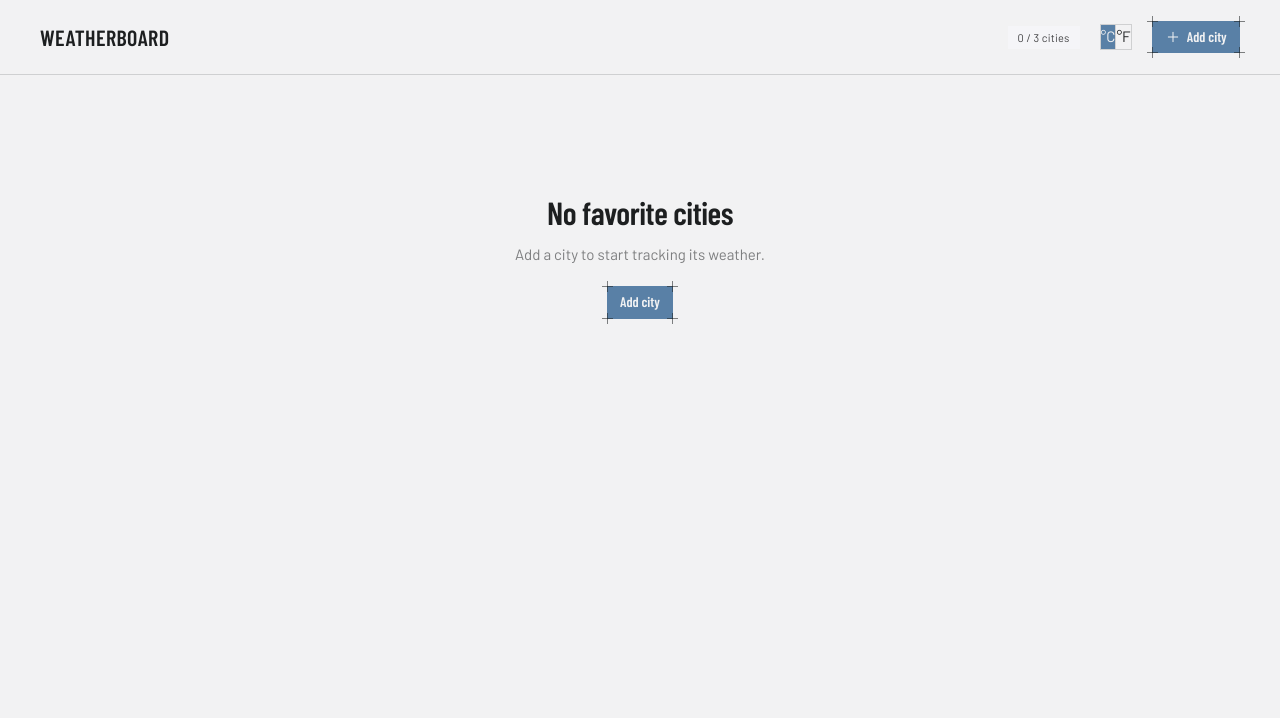
Test case: App › adds a city through the dialog
Expected: the heading "No favorite cities" is shown, [547,195,733,231]
Click the button "Add city" in the row of "WEATHERBOARD" at coordinates (1196, 37), box [1152,21,1240,53]
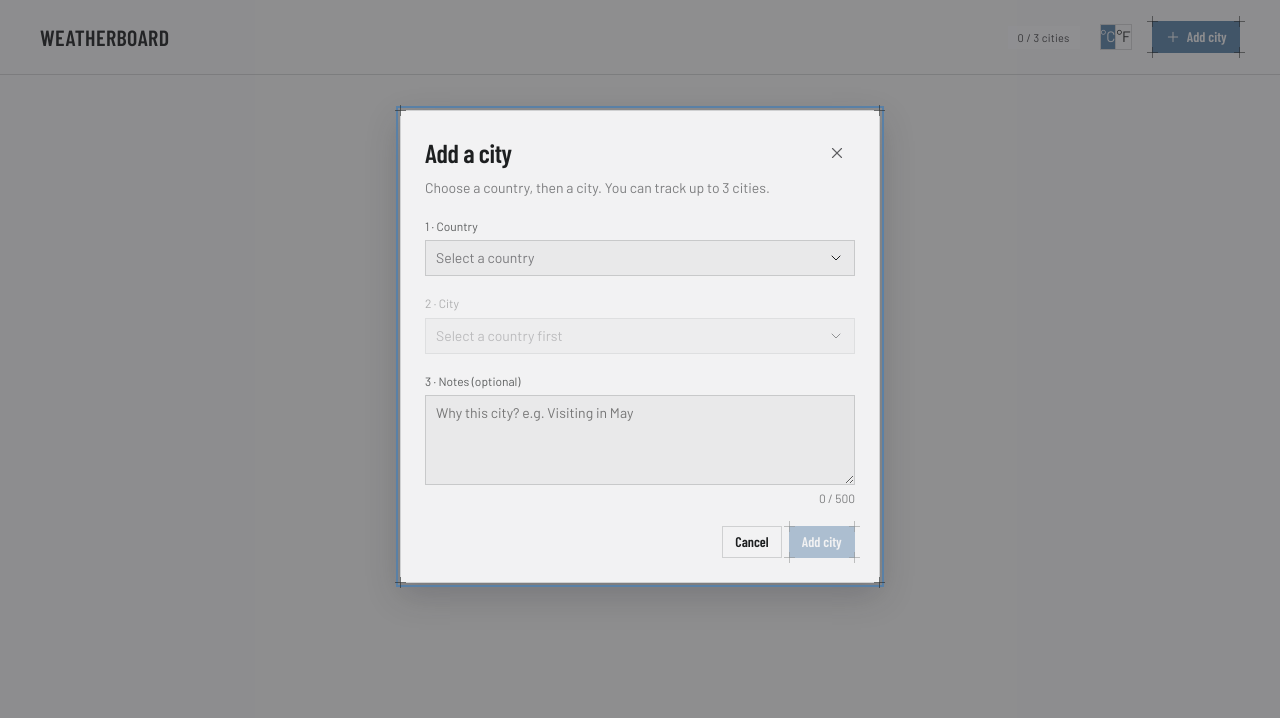
Click the button named "1 · Country" at coordinates (485, 258), box [425,240,855,276]
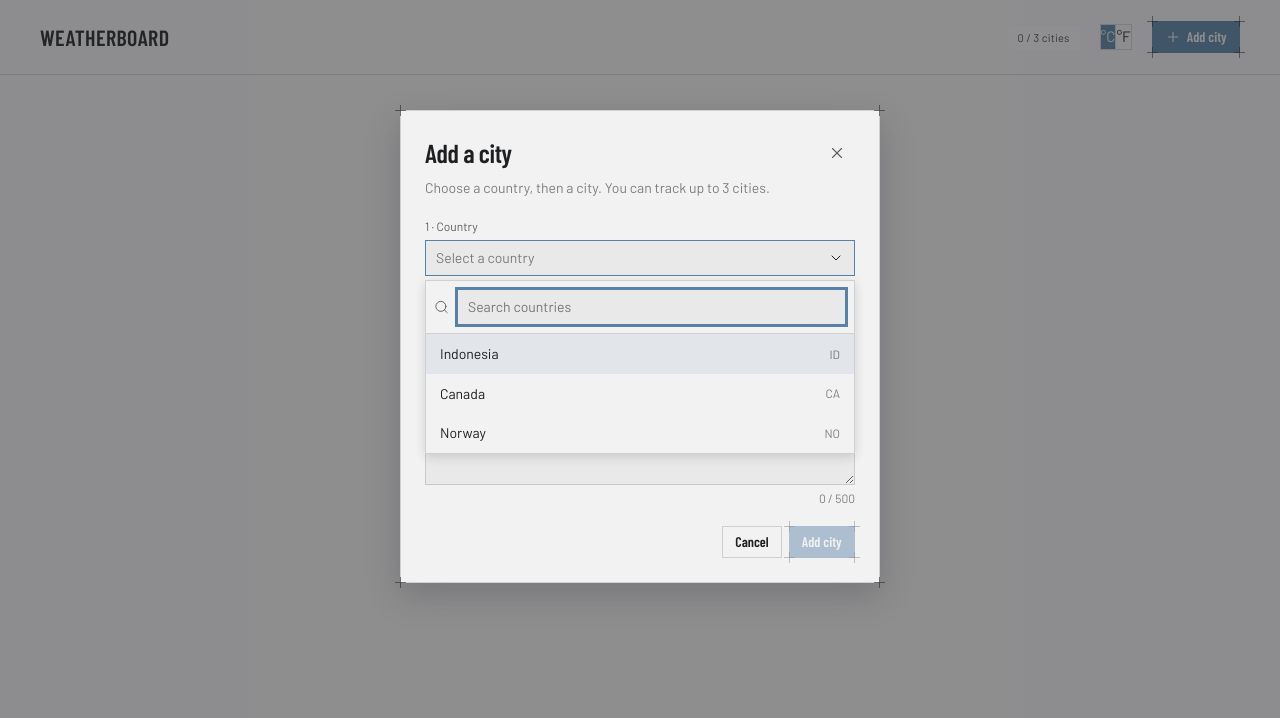
Click the option "Norway NO" at coordinates (463, 433), box [440,424,840,441]
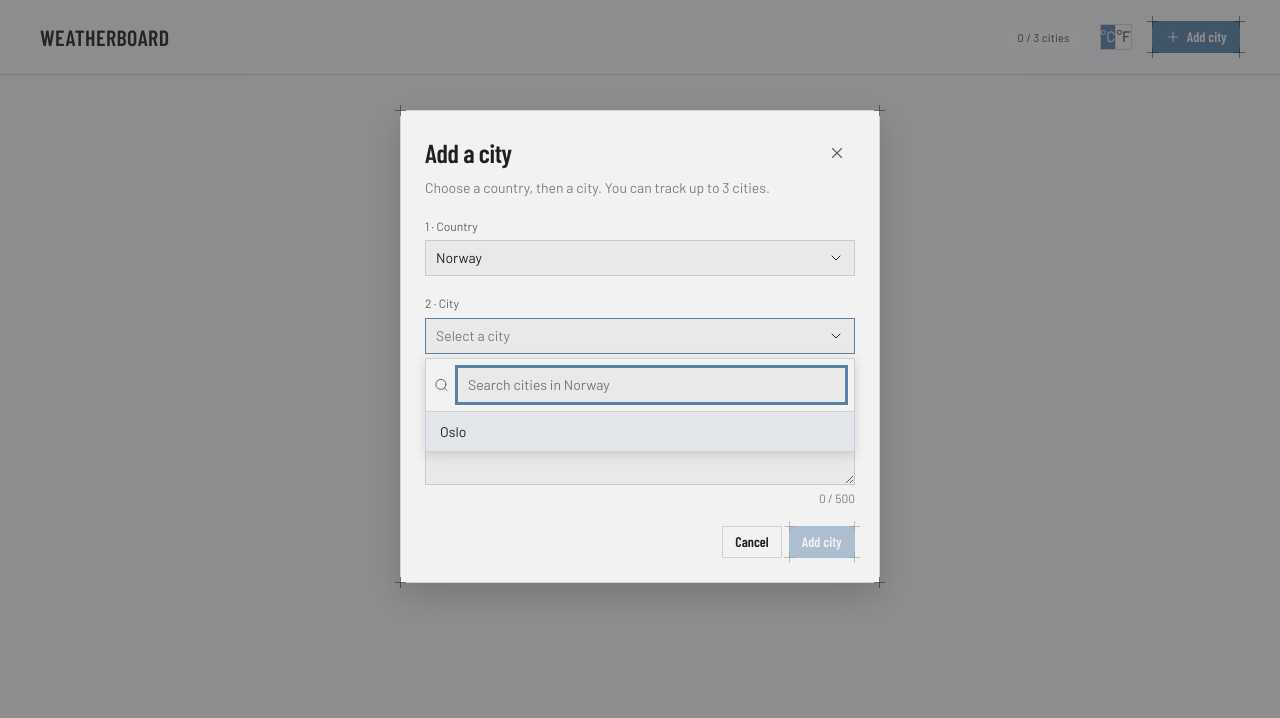
Click the option "Oslo" at coordinates (453, 431), box [426,412,854,451]
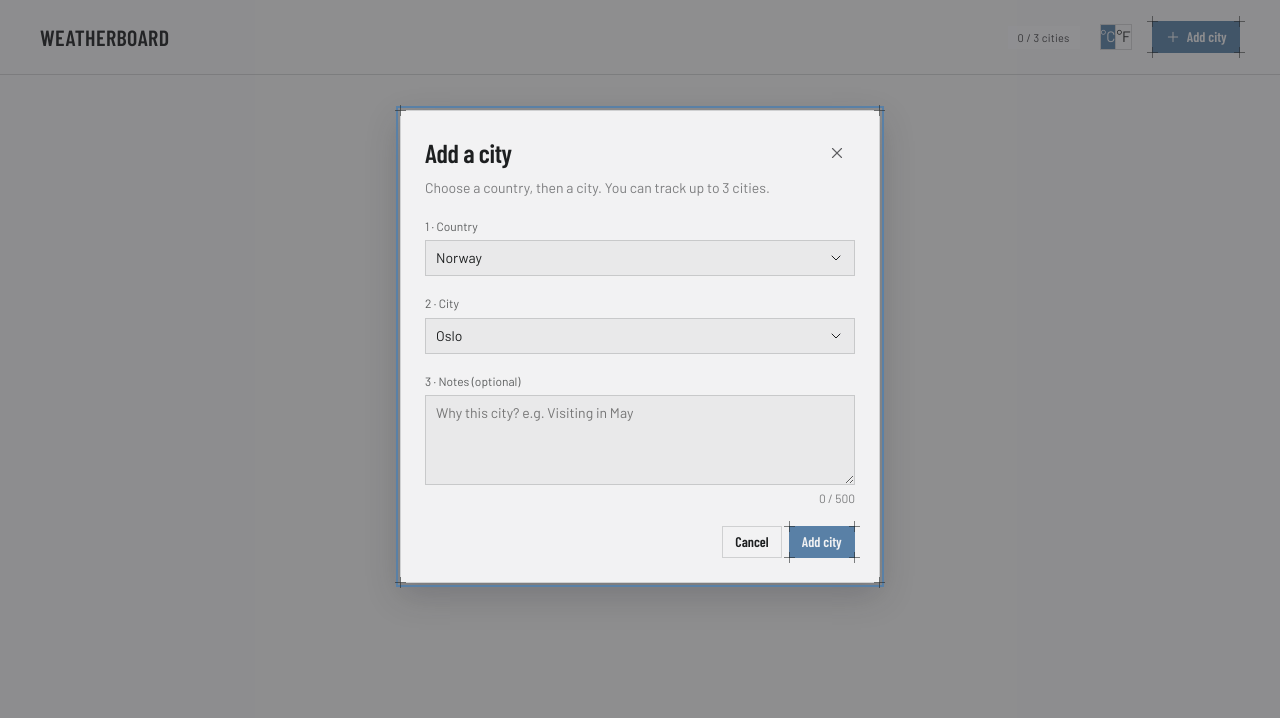
Click the button "Add city" at coordinates (822, 542), box [789,526,855,558]
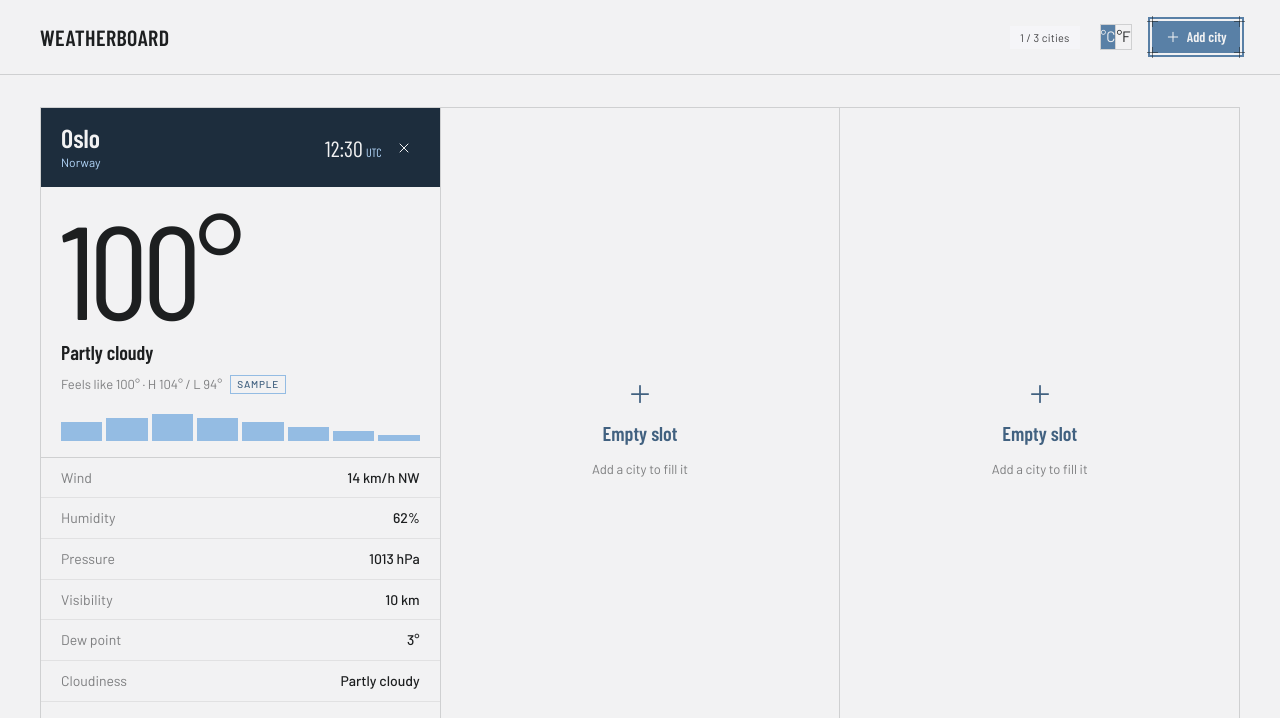
Expected: the text "100°" is shown, [61,188,238,346]
Expected: the dialog is gone
Expected: the text "1 / 3 cities" is shown, [1010,26,1080,48]
